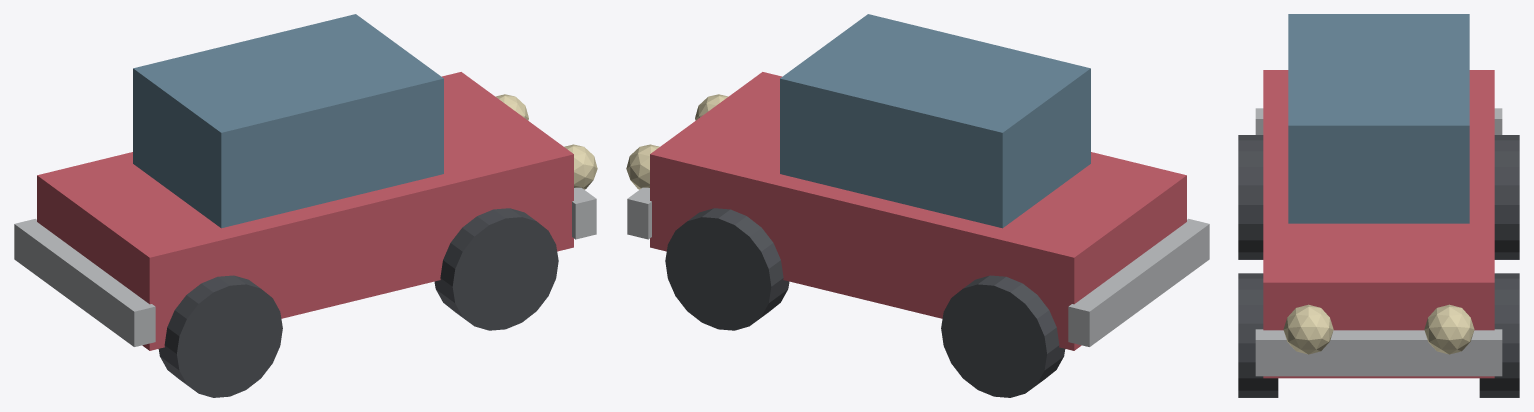
The model's file is showroom-car.glb.
The picture shows the model from 3 angles, left to right: view 1: azimuth 30°, elevation 25°; view 2: azimuth 150°, elevation 25°; view 3: azimuth 270°, elevation 25°; orthographic projection. The views are drawn at different scales.
Parts seen in each view (by area): view 1: car_body, car_cabin, front_wheel_0.48, rear_wheel_0.48, rear_bumper, front_bumper, headlight_0.28; view 2: car_body, car_cabin, front_wheel_-0.48, rear_wheel_-0.48, rear_bumper, front_bumper, headlight_-0.28; view 3: car_cabin, car_body, front_bumper, rear_wheel_-0.48, rear_wheel_0.48, front_wheel_-0.48, front_wheel_0.48, headlight_-0.28, headlight_0.28, rear_bumper.
Part boxes in pixels (x1,y1,x2,y2): car_body: (37, 72, 573, 350); car_cabin: (133, 14, 443, 228); front_wheel_0.48: (434, 208, 558, 330); rear_wheel_0.48: (158, 275, 282, 397); rear_bumper: (14, 218, 155, 346); front_bumper: (572, 187, 596, 239); headlight_0.28: (564, 144, 597, 189); car_body: (650, 72, 1186, 350); car_cabin: (780, 14, 1090, 228); front_wheel_-0.48: (665, 208, 789, 330); rear_wheel_-0.48: (941, 275, 1065, 397); rear_bumper: (1068, 218, 1209, 346); front_bumper: (627, 187, 651, 239); headlight_-0.28: (626, 144, 659, 189); car_cabin: (1288, 14, 1469, 223); car_body: (1263, 70, 1494, 378); front_bumper: (1255, 329, 1502, 376); rear_wheel_-0.48: (1494, 135, 1519, 259); rear_wheel_0.48: (1238, 135, 1263, 259); front_wheel_-0.48: (1479, 273, 1519, 397); front_wheel_0.48: (1238, 273, 1278, 397); headlight_-0.28: (1424, 304, 1474, 354); headlight_0.28: (1283, 304, 1333, 354); rear_bumper: (1255, 108, 1502, 134).
Size of the model in its own units: 2.29 by 1.09 by 1.12.
